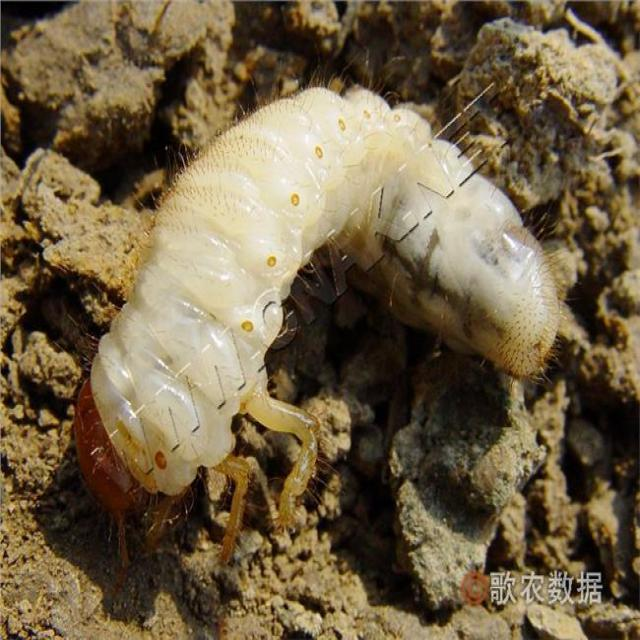Grub-Adult-: (71, 59, 557, 579)
